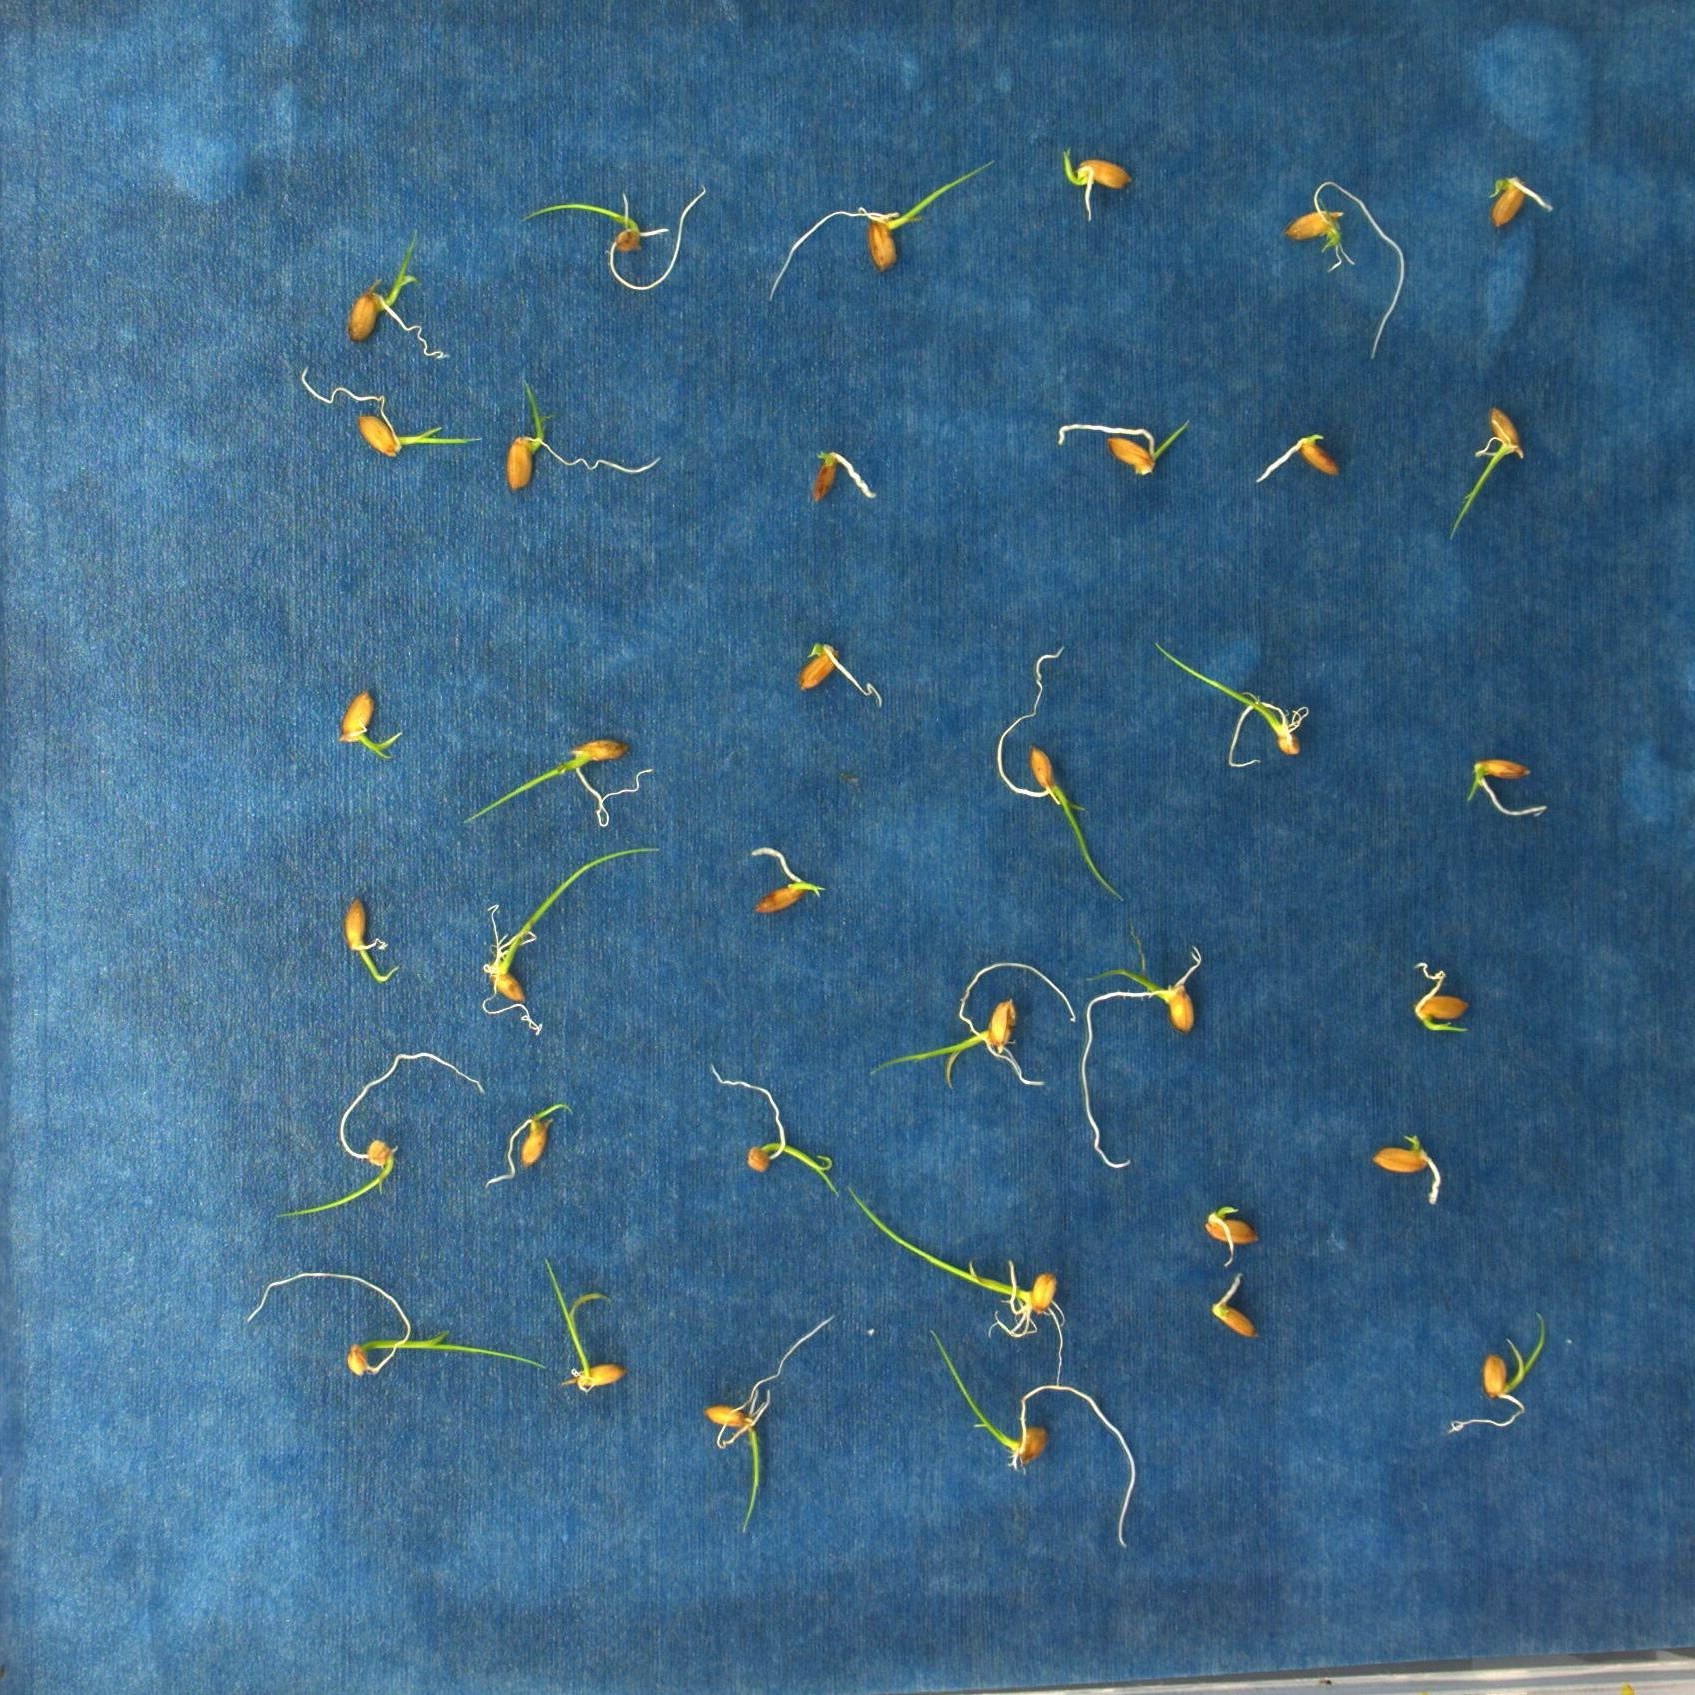not sprout: (793, 638, 886, 712), (1374, 1130, 1451, 1211), (1465, 756, 1549, 823), (802, 442, 879, 511), (1201, 1277, 1273, 1343), (1256, 435, 1344, 484), (1487, 169, 1557, 230), (1205, 1205, 1263, 1270)
sprout: (924, 1329, 1139, 1558), (838, 1192, 1090, 1383), (984, 646, 1138, 913), (258, 1048, 486, 1222), (248, 1267, 562, 1392), (480, 834, 666, 1040), (761, 152, 1006, 300), (698, 1312, 849, 1538), (860, 958, 1077, 1104), (1071, 930, 1200, 1172), (1277, 174, 1406, 369), (494, 365, 663, 501), (453, 733, 661, 838), (515, 189, 716, 293), (1156, 638, 1312, 771), (293, 369, 489, 469), (705, 1060, 847, 1194), (341, 225, 445, 362), (1447, 400, 1541, 545), (1451, 1307, 1548, 1444), (543, 1257, 635, 1399), (1049, 416, 1209, 487), (1051, 137, 1138, 224), (1402, 951, 1487, 1040), (489, 1104, 573, 1183), (331, 681, 404, 768), (337, 899, 399, 997), (747, 841, 820, 920)
